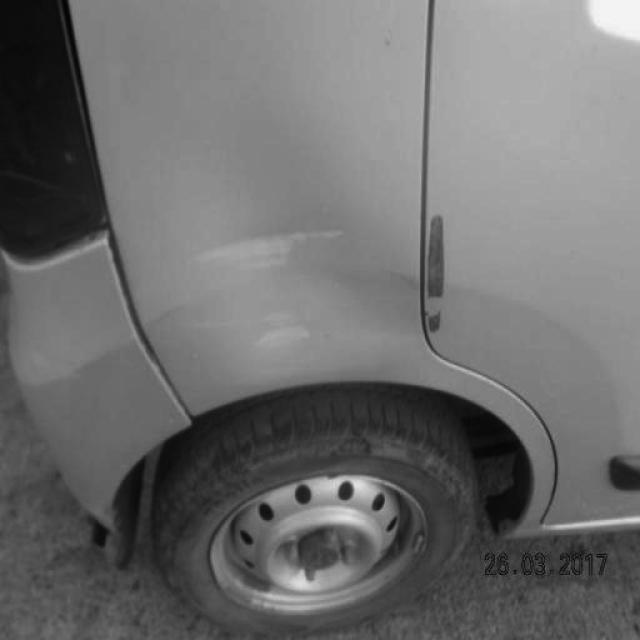car damage: (201, 221, 348, 272), (254, 315, 311, 353), (428, 215, 446, 306), (425, 310, 443, 334)
